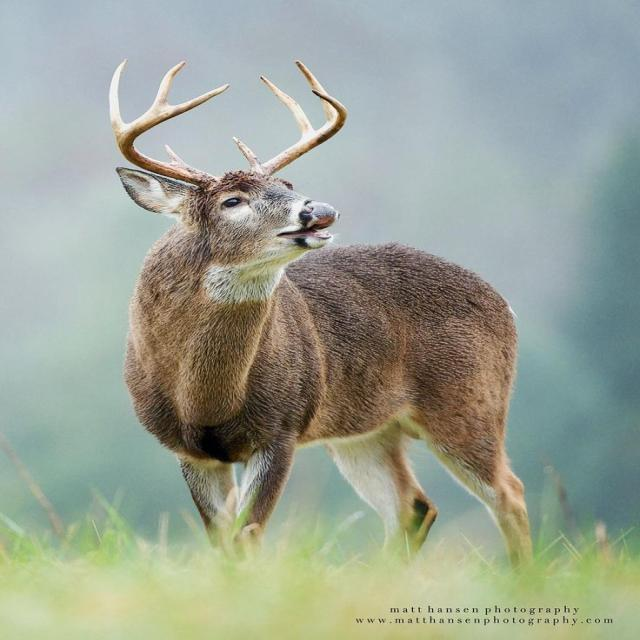L-G1: (232, 137, 263, 169)
L-G2: (260, 74, 314, 137)
R-F: (117, 84, 230, 187)
R-G1: (164, 144, 191, 166)
R-G2: (109, 58, 128, 139)
R-G3: (149, 61, 186, 111)
